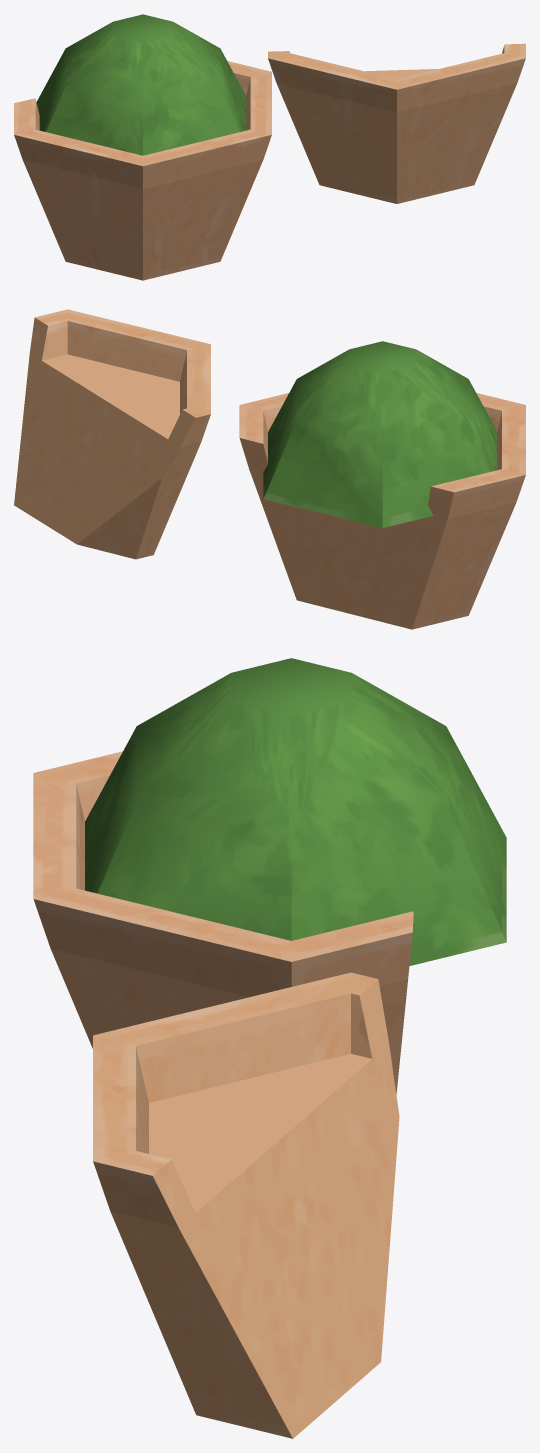
The model's file is baskets_s01.fbx.
The picture shows the model from 3 angles, top to bottom: view 1: azimuth 30°, elevation 25°; view 2: azimuth 150°, elevation 25°; view 3: azimuth 270°, elevation 25°; orthographic projection. The views are drawn at different scales.
Parts seen in each view (by area): view 1: baskets_s01; view 2: baskets_s01; view 3: baskets_s01.
Boxes of the visible parts, x1,y1,x2,y2 form: baskets_s01: (14,14,525,280); baskets_s01: (14,309,525,629); baskets_s01: (33,658,506,1438).
Size of the model in its own units: 2.22 by 0.95 by 0.9526.
